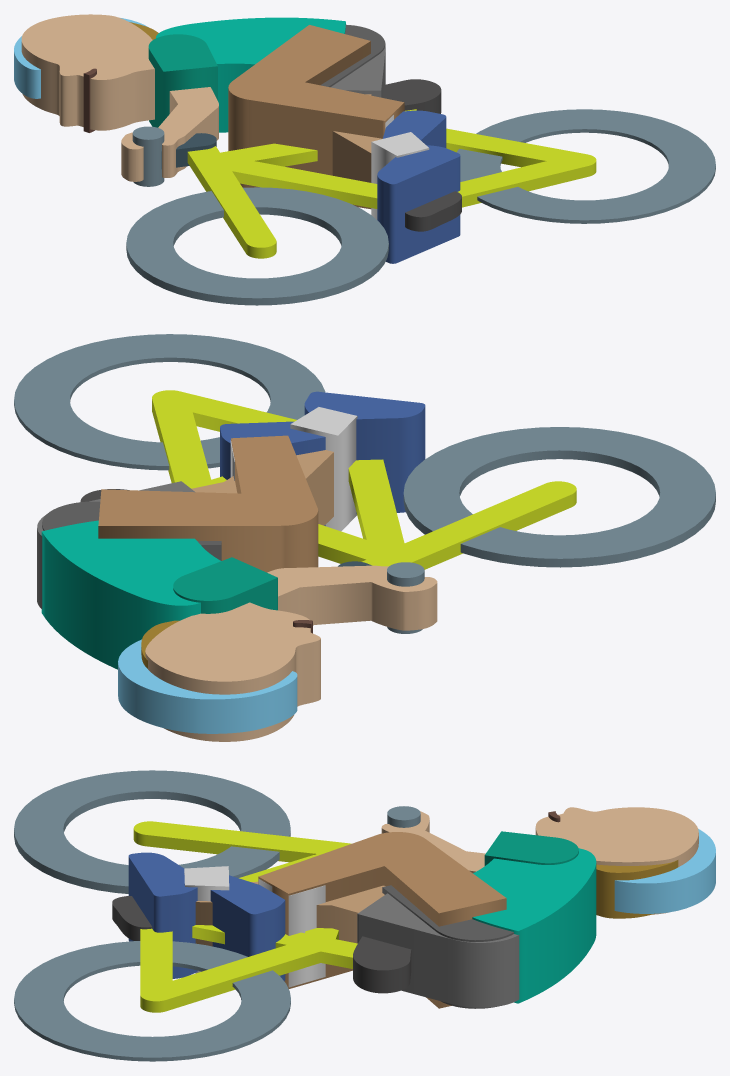
The model's file is emoji_u1f6b4_1f3fc_200d_2642.glb.
3 renders of one model, top to bottom at view 1: azimuth 30°, elevation 25°; view 2: azimuth 150°, elevation 25°; view 3: azimuth 270°, elevation 25°, orthographic. The views are drawn at different scales.
Parts seen in each view (by area): view 1: emoji_u1f6b4_1f3fc_200d_2642; view 2: emoji_u1f6b4_1f3fc_200d_2642; view 3: emoji_u1f6b4_1f3fc_200d_2642.
Boxes of the visible parts, box(x1,y1,x2,y2) form: emoji_u1f6b4_1f3fc_200d_2642: box(14, 14, 715, 305); emoji_u1f6b4_1f3fc_200d_2642: box(14, 334, 715, 741); emoji_u1f6b4_1f3fc_200d_2642: box(14, 770, 715, 1061).
Size of the model in its own units: 0.0321 by 0.005 by 0.0334.
